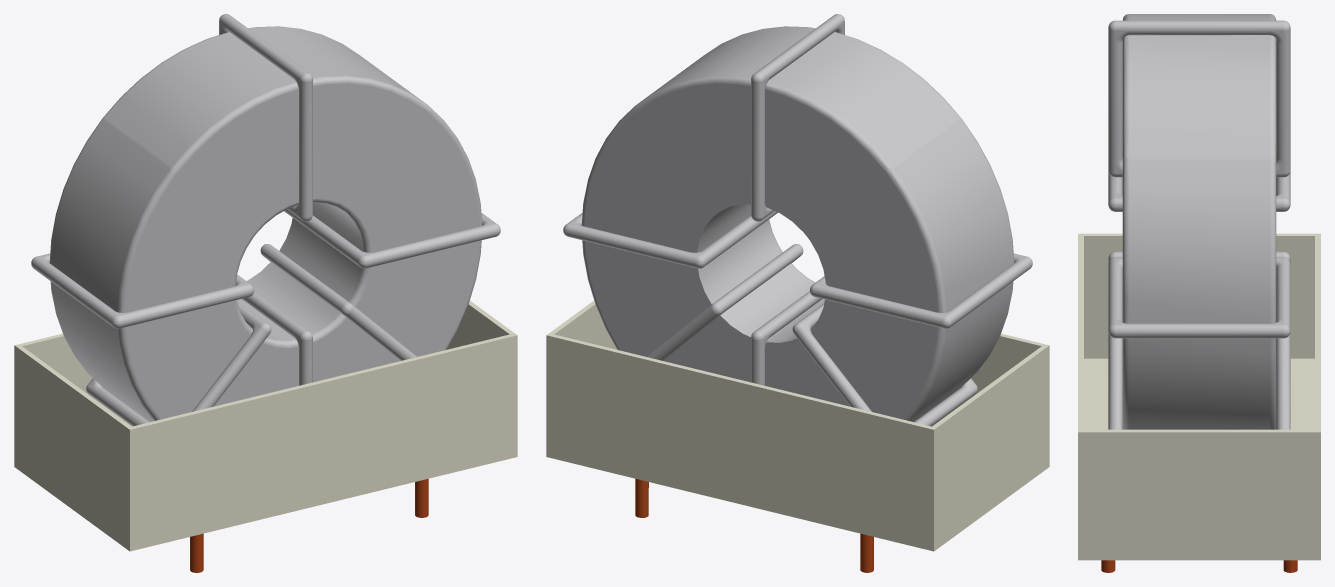
File: kc-l_commonmode_toroid_vertical_l39.4mm_w20.3mm_px15.24mm_py22.86mm_bourns_8100.glb
The picture shows the model from 3 angles, left to right: view 1: azimuth 30°, elevation 25°; view 2: azimuth 150°, elevation 25°; view 3: azimuth 270°, elevation 25°; orthographic projection. The views are drawn at different scales.
Parts seen in each view (by area): view 1: 0.5833333333333334_0.5833333333333334_0.5833333333333334_0.8, 0.75_0.75_0.6666666666666666_0, 0.4166666666666667_0.08333333333333333_0_0; view 2: 0.5833333333333334_0.5833333333333334_0.5833333333333334_0.8, 0.75_0.75_0.6666666666666666_0, 0.4166666666666667_0.08333333333333333_0_0; view 3: 0.5833333333333334_0.5833333333333334_0.5833333333333334_0.8, 0.75_0.75_0.6666666666666666_0, 0.4166666666666667_0.08333333333333333_0_0.
Part boxes in pixels (x1=…): 0.5833333333333334_0.5833333333333334_0.5833333333333334_0.8: x1=31, y1=14, x2=500, y2=426; 0.75_0.75_0.6666666666666666_0: x1=14, y1=300, x2=517, y2=551; 0.4166666666666667_0.08333333333333333_0_0: x1=190, y1=478, x2=428, y2=572; 0.5833333333333334_0.5833333333333334_0.5833333333333334_0.8: x1=563, y1=14, x2=1032, y2=426; 0.75_0.75_0.6666666666666666_0: x1=546, y1=300, x2=1049, y2=551; 0.4166666666666667_0.08333333333333333_0_0: x1=635, y1=478, x2=873, y2=572; 0.5833333333333334_0.5833333333333334_0.5833333333333334_0.8: x1=1108, y1=14, x2=1290, y2=429; 0.75_0.75_0.6666666666666666_0: x1=1078, y1=233, x2=1320, y2=560; 0.4166666666666667_0.08333333333333333_0_0: x1=1101, y1=560, x2=1297, y2=572.
Size of the model in its own units: 3.94 by 4.53 by 2.03.
